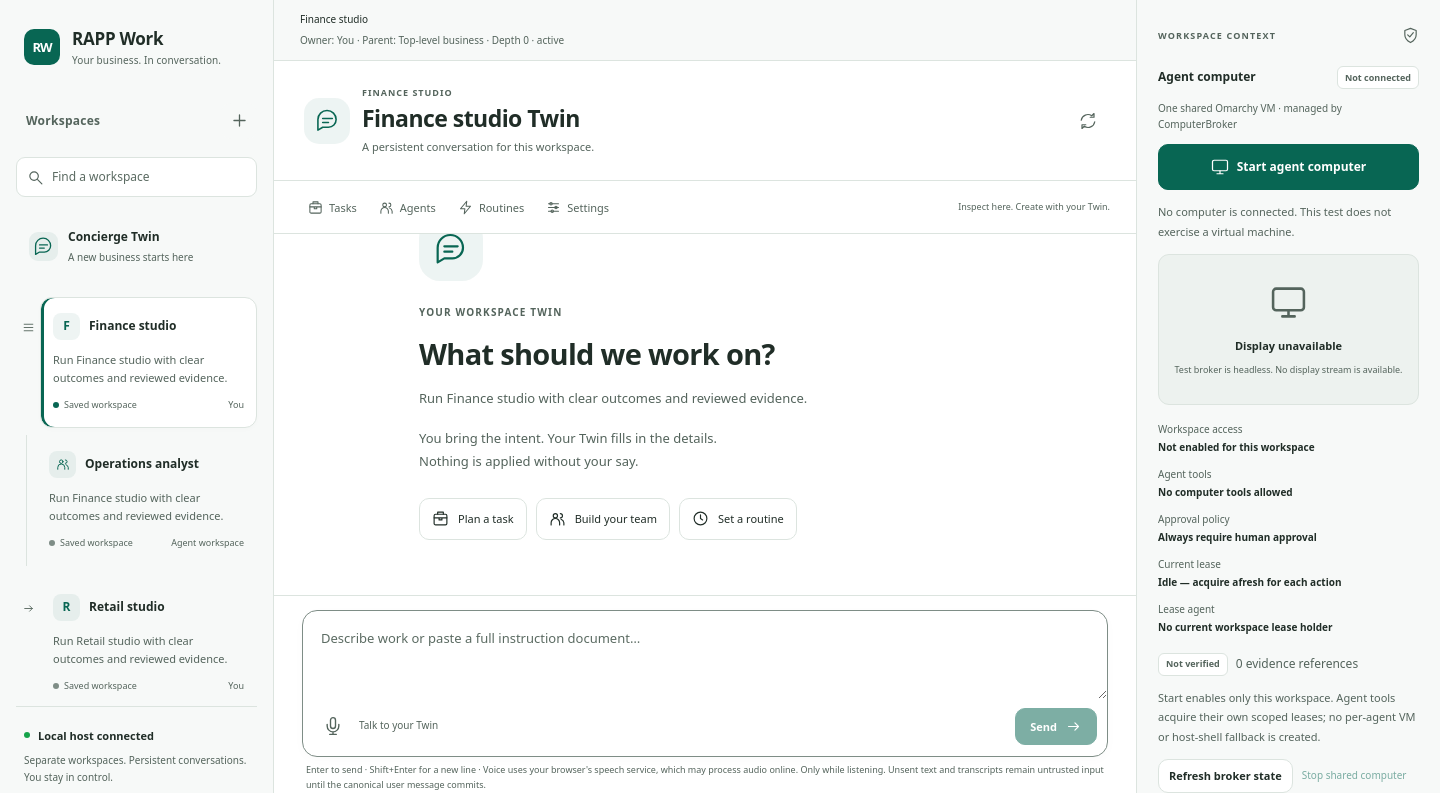
Test: foreground, user-started voice dictation › can be stopped explicitly and reports an empty recognition honestly
(page scrolled)
Expected: the heading "Finance studio Twin" is shown, [362,103,594,134]
Click the button named "Start voice dictation" at (333, 726), box [313,706,353,746]
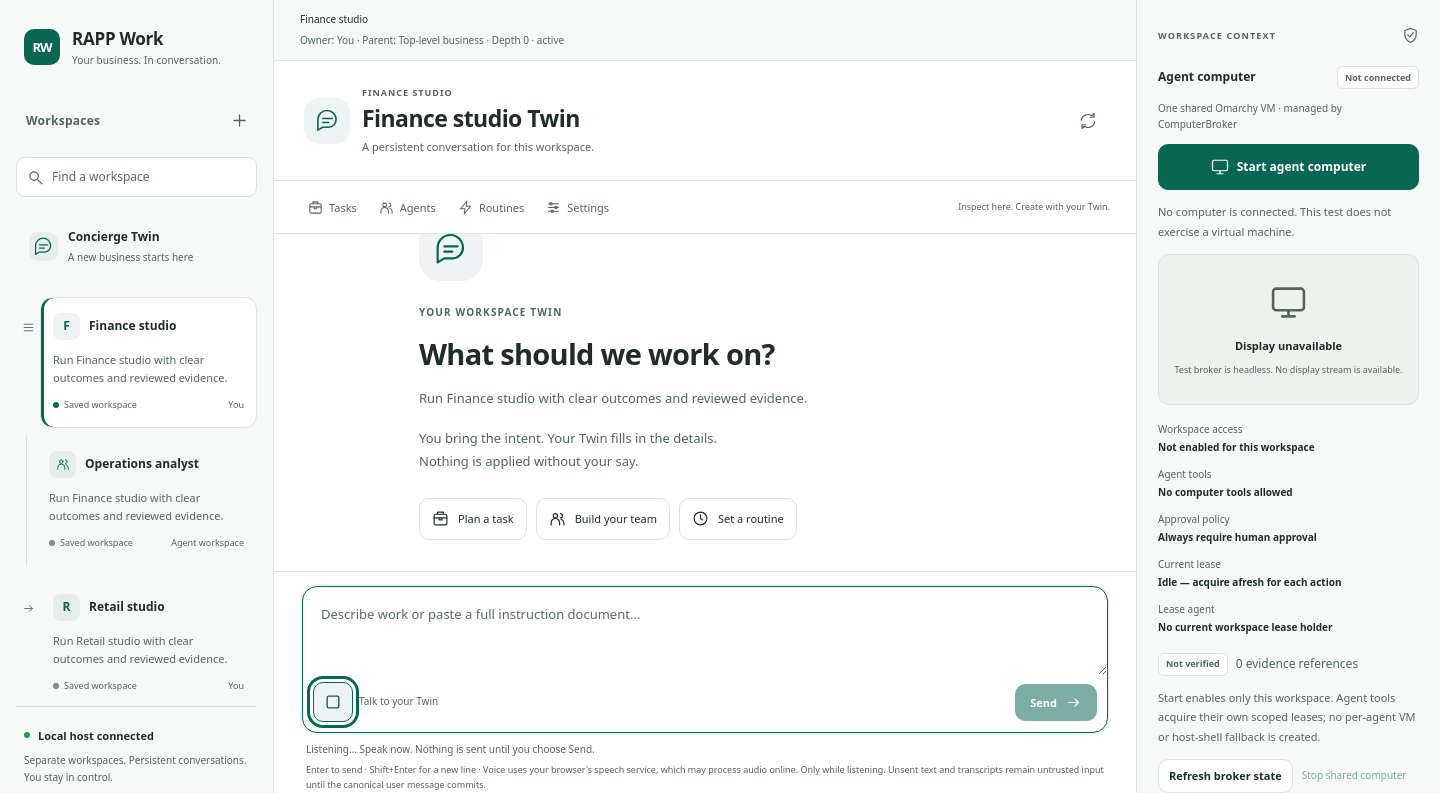
Click the button named "Stop dictation" at (333, 702), box [313,682,353,722]
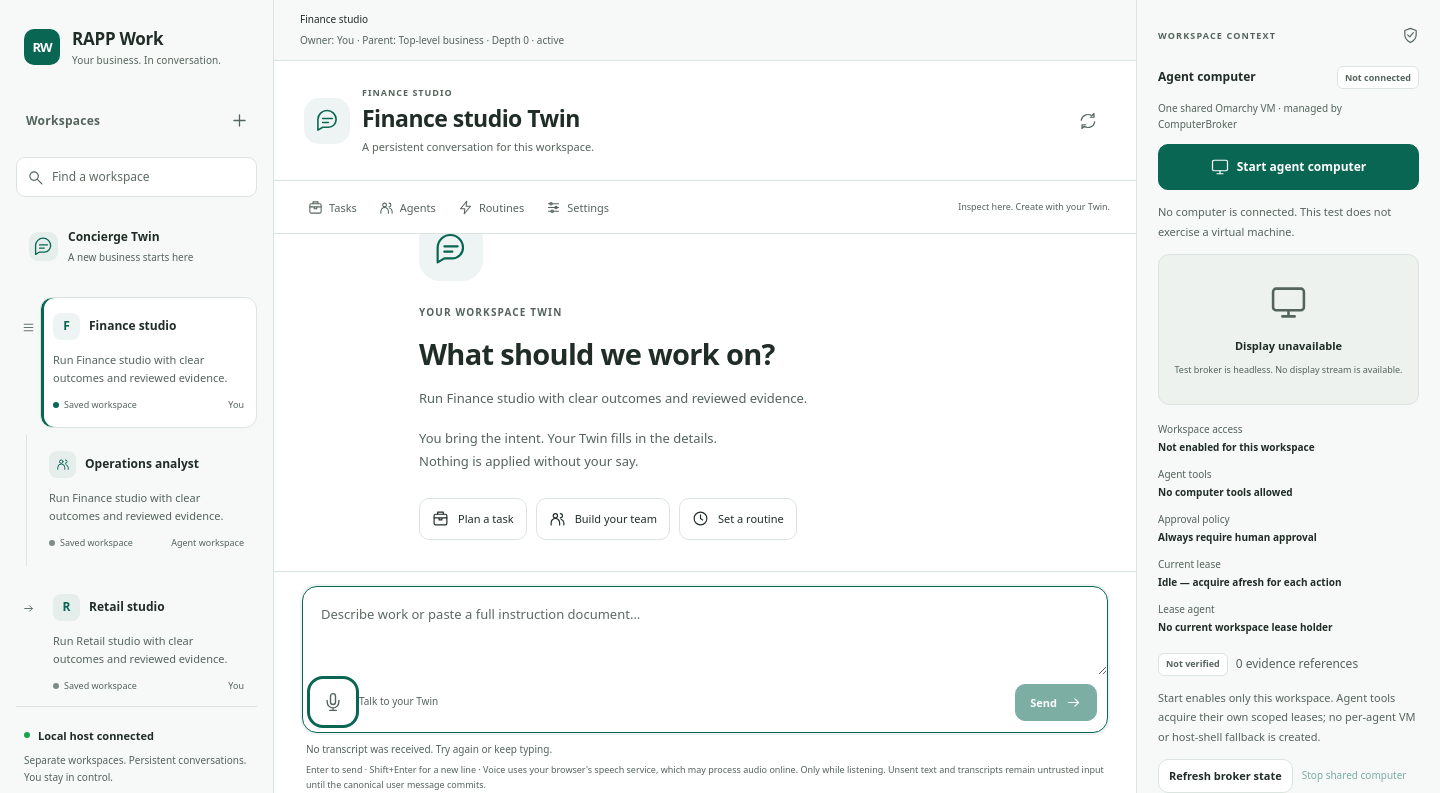
Expected: the text box named "Message your Work Twin" is empty, [303,587,1107,675]
Now the text "No transcript was received. Try again or keep typing." is shown, box [306,742,552,756]
